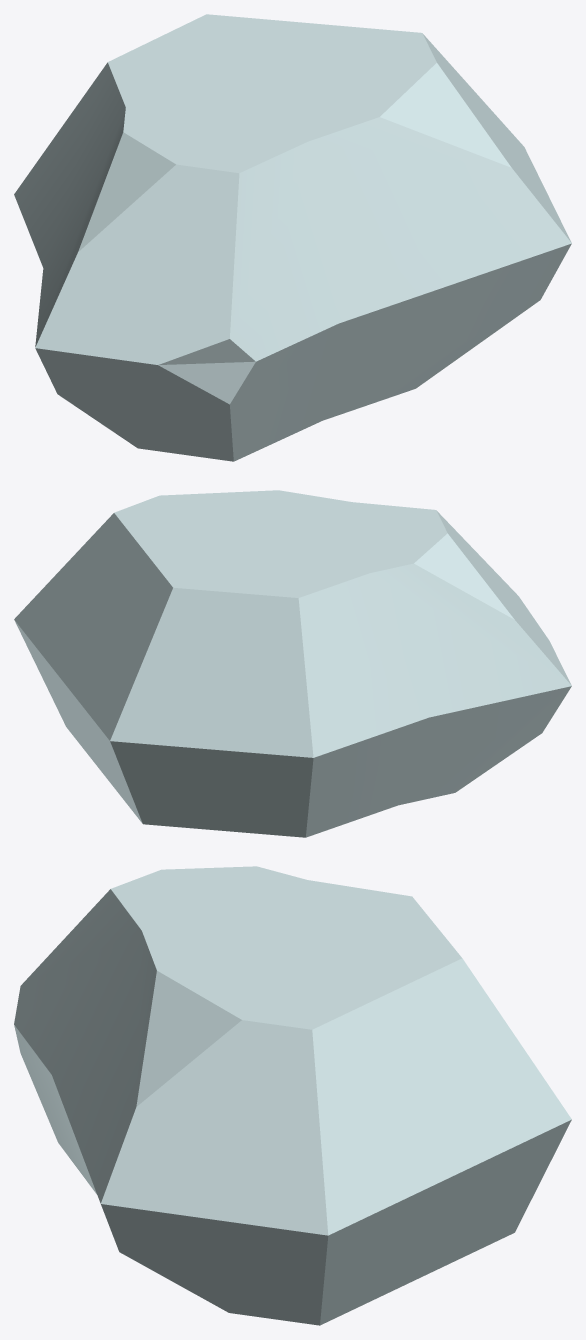
File: stone_large6.glb
3 views of the same model, one above another, from view 1: azimuth 30°, elevation 25°; view 2: azimuth 150°, elevation 25°; view 3: azimuth 270°, elevation 25° (orthographic). The views are drawn at different scales.
Parts seen in each view (by area): view 1: stone_large6; view 2: stone_large6; view 3: stone_large6.
Part boxes in pixels (x1,y1,x2,y2): stone_large6: (14, 14, 571, 461); stone_large6: (14, 490, 571, 837); stone_large6: (14, 866, 571, 1325).
Size of the model in its own units: 1.1 by 0.479 by 0.899.
